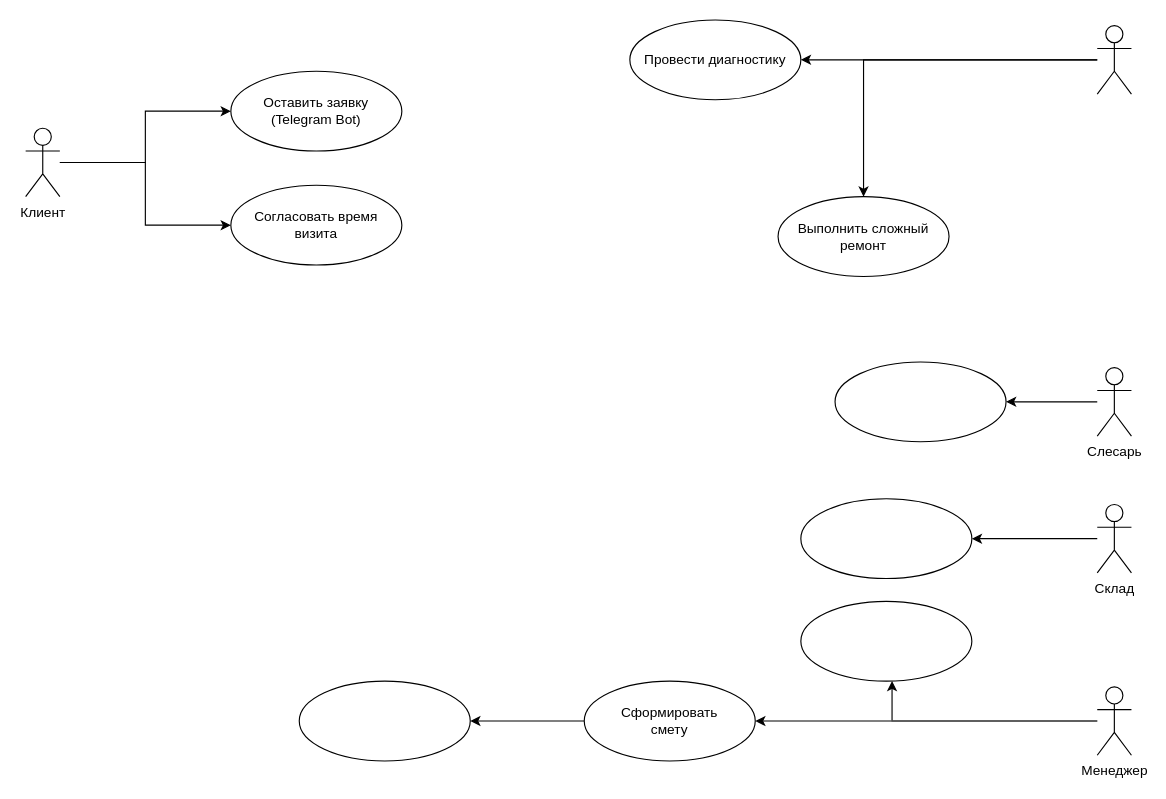
Image size: 1166x799. Some labels were removed from this diagram. The shapes that lost their labels are listed below. From the top down, each one's centre as x and y in pixels, then its label:
At (1113,59): "Механик".
At (920,401): "Выполнить слесарные работы".
At (886,538): "Проверить и выдать запчасти".
At (886,640): "Назначить исполнителя".
At (384,720): "Закрыть заказ".
